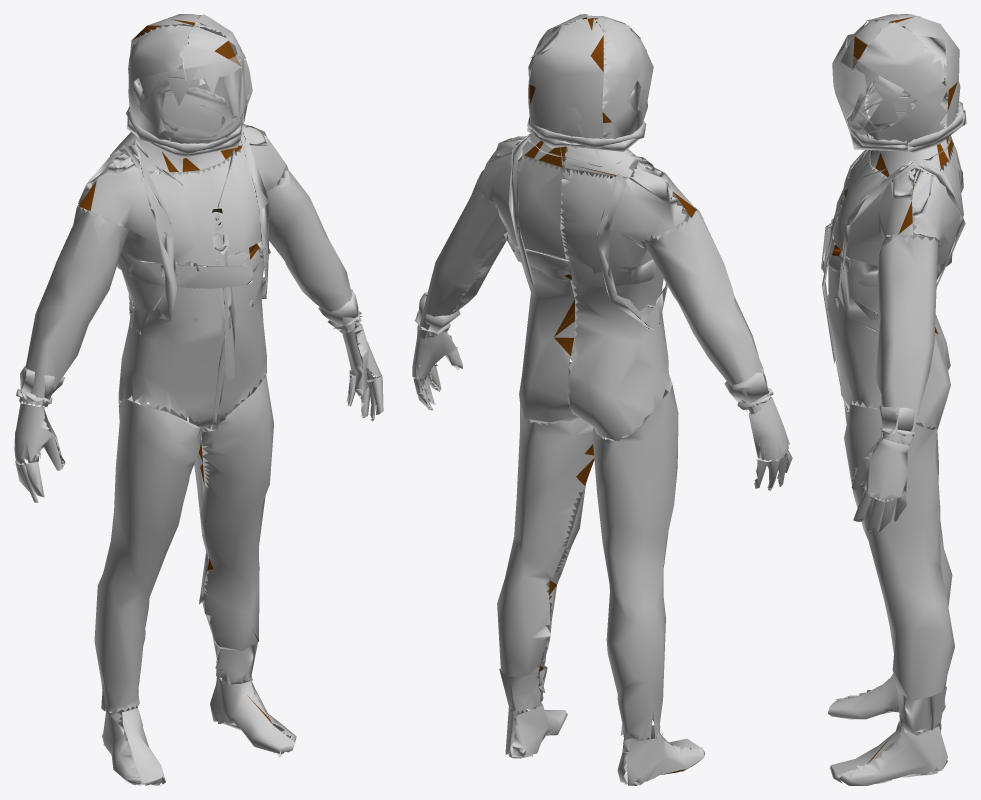
File: mercury_c.obj
The picture shows the model from 3 angles, left to right: view 1: azimuth 30°, elevation 25°; view 2: azimuth 150°, elevation 25°; view 3: azimuth 270°, elevation 25°; orthographic projection.
Size of the model in its own units: 1.05 by 2 by 0.3638.
